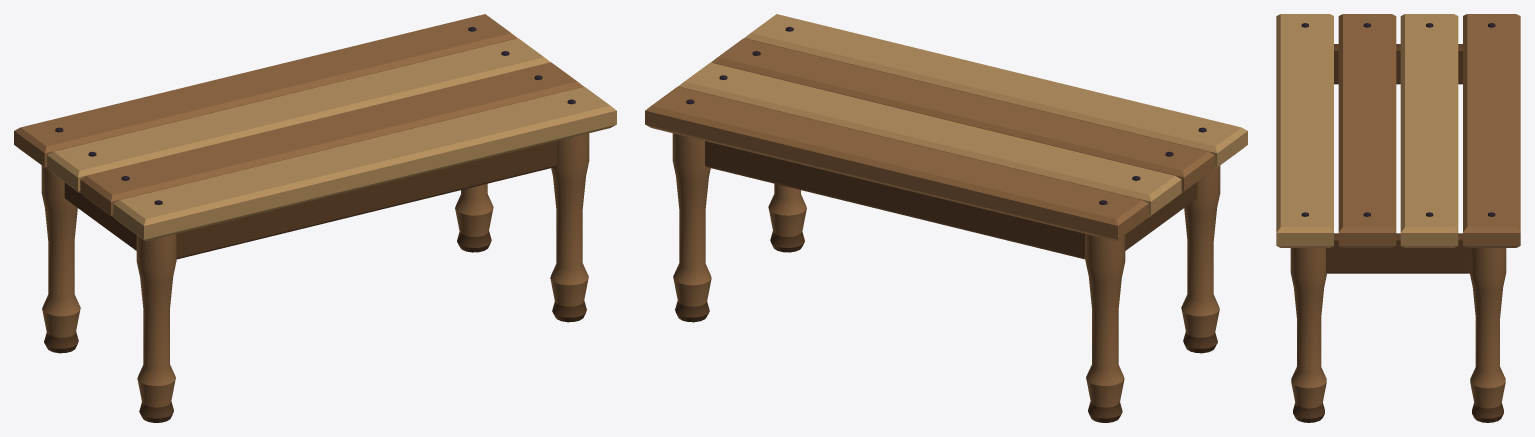
File: Table_07.glb
3 renders of one model, left to right at view 1: azimuth 30°, elevation 25°; view 2: azimuth 150°, elevation 25°; view 3: azimuth 270°, elevation 25°, orthographic. The views are drawn at different scales.
Parts seen in each view (by area): view 1: Table_07; view 2: Table_07; view 3: Table_07.
Part boxes in pixels (box(x1,y1,x2,y2)): Table_07: box(14, 14, 616, 422); Table_07: box(645, 14, 1247, 422); Table_07: box(1276, 14, 1520, 422).
Size of the model in its own units: 7.08 by 3.11 by 3.37.
